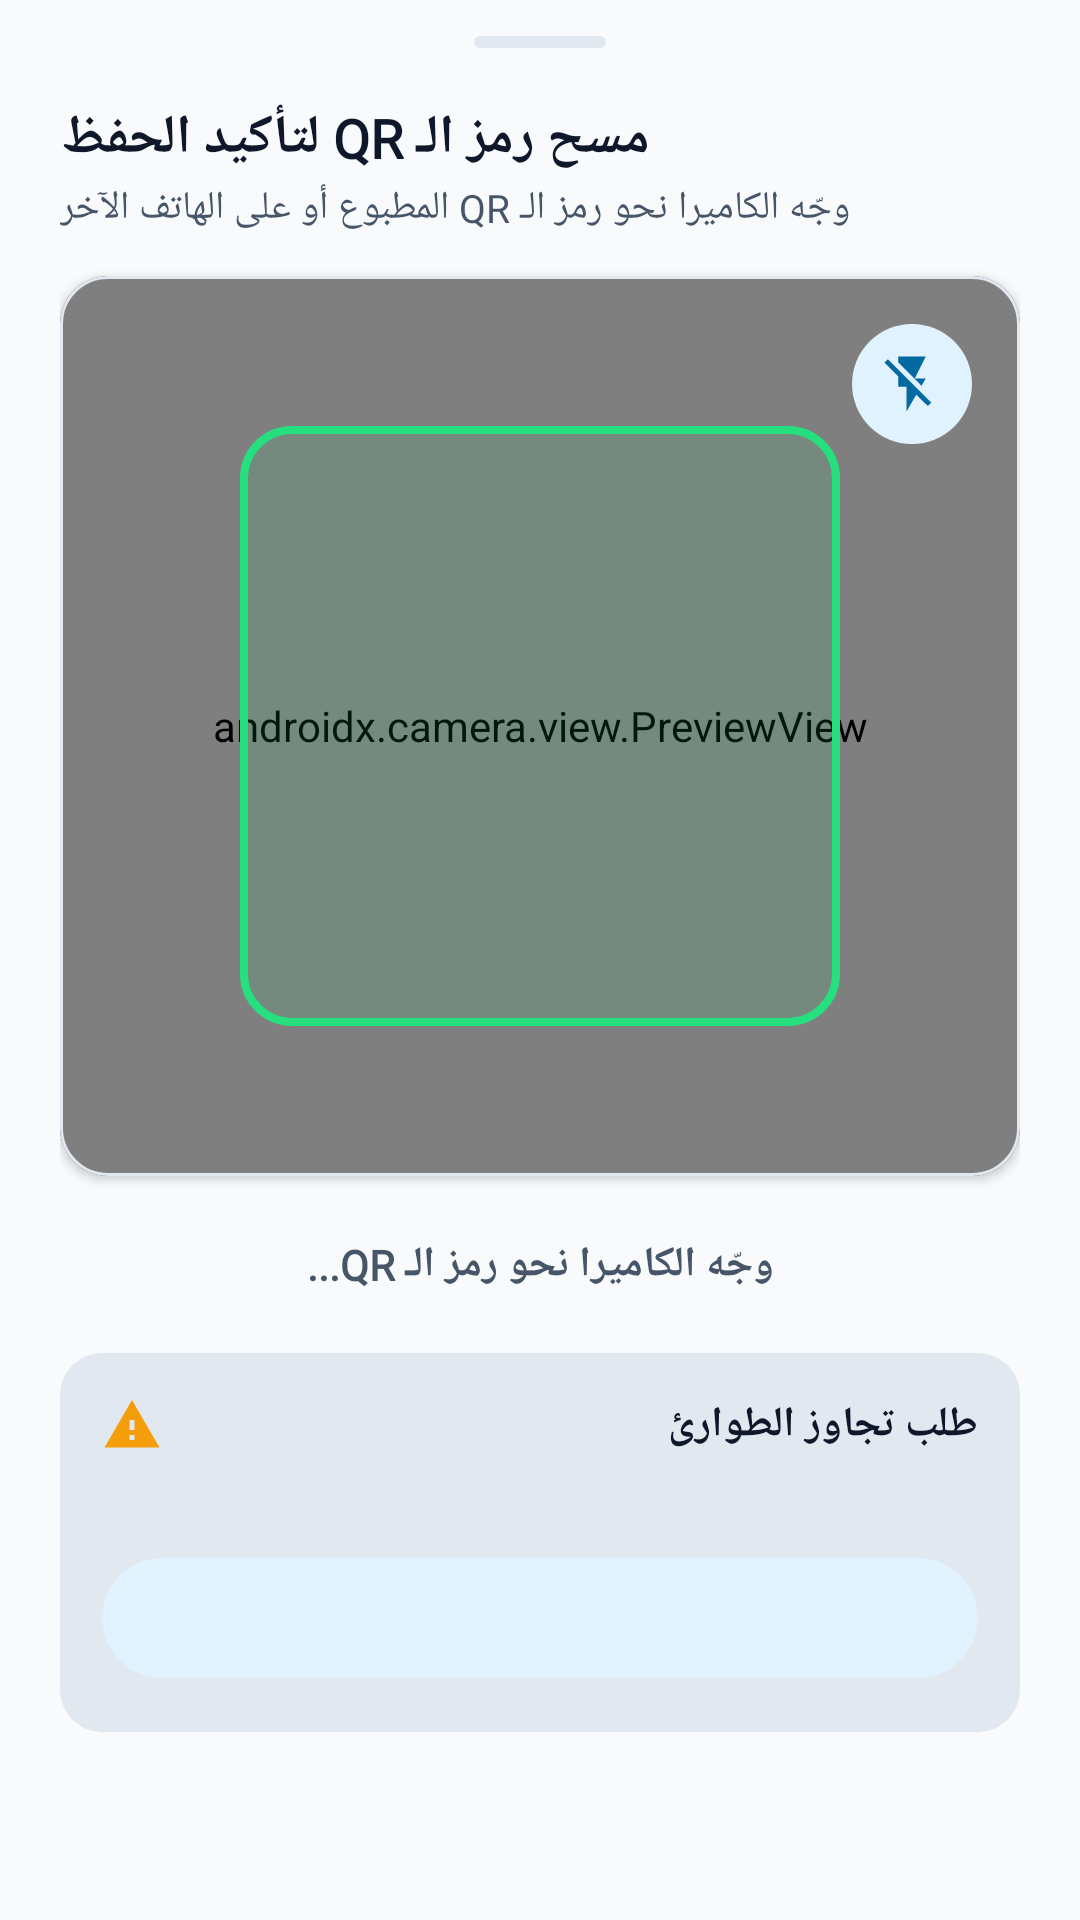

Icons on this 1080w x 1920h Android screen, each with the point to tap as [x,y]:
warning amber: [132,1424]
تشغيل الفلاش: [912,384]
